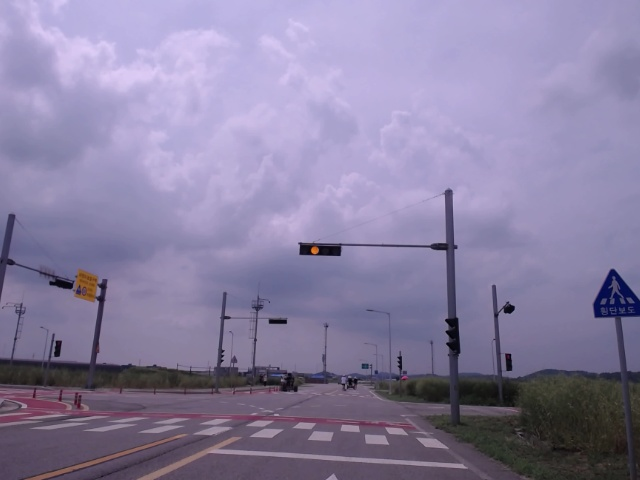orange_4: (298, 243, 341, 259)
